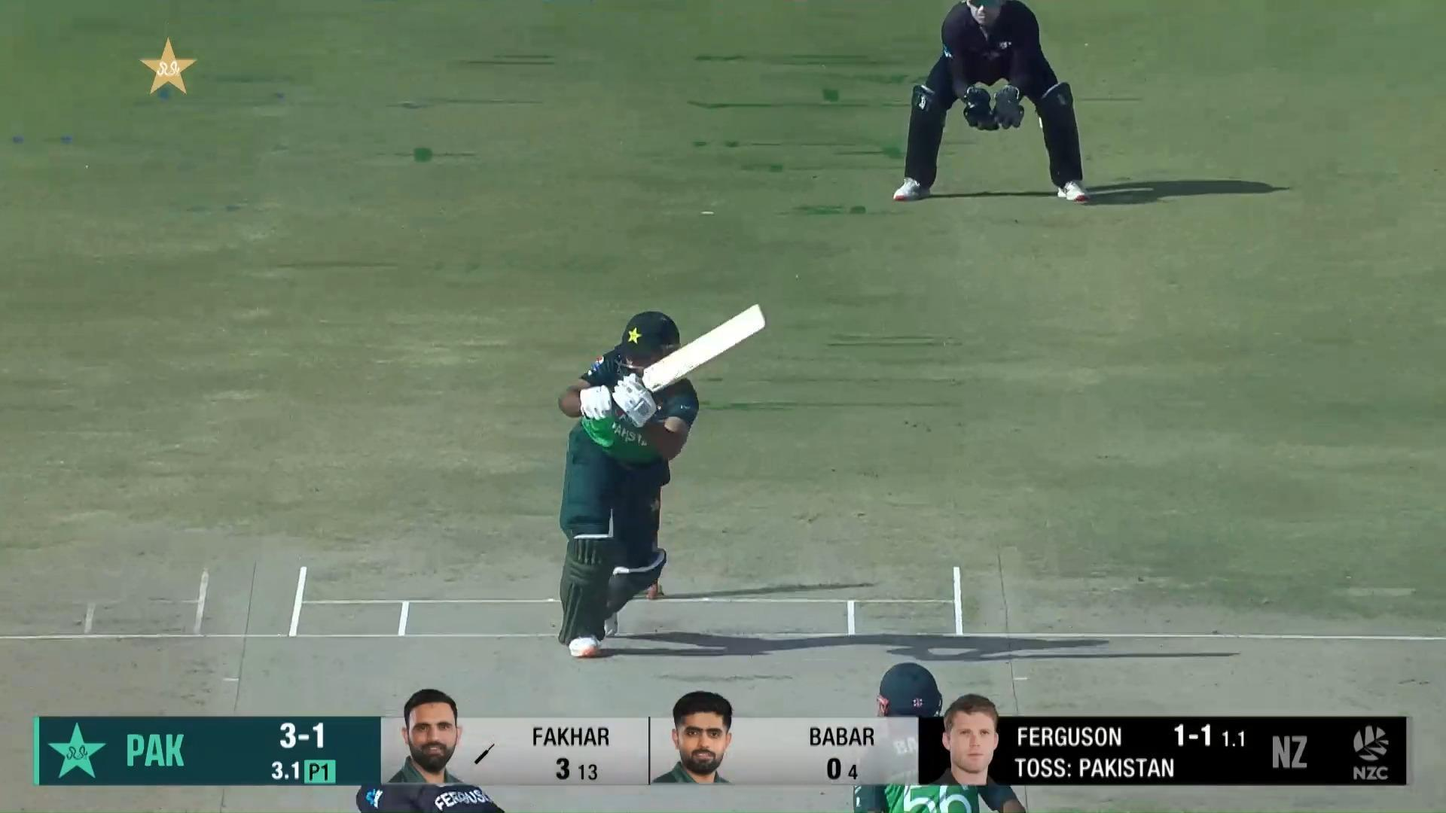BM 1: (557, 303, 767, 659)
BO: (355, 734, 508, 813)
